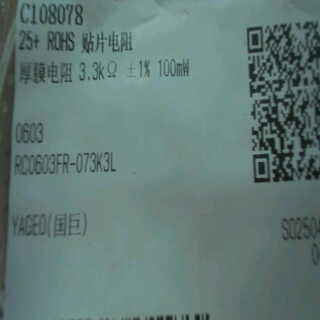3.3kO: (74, 58, 121, 84)
